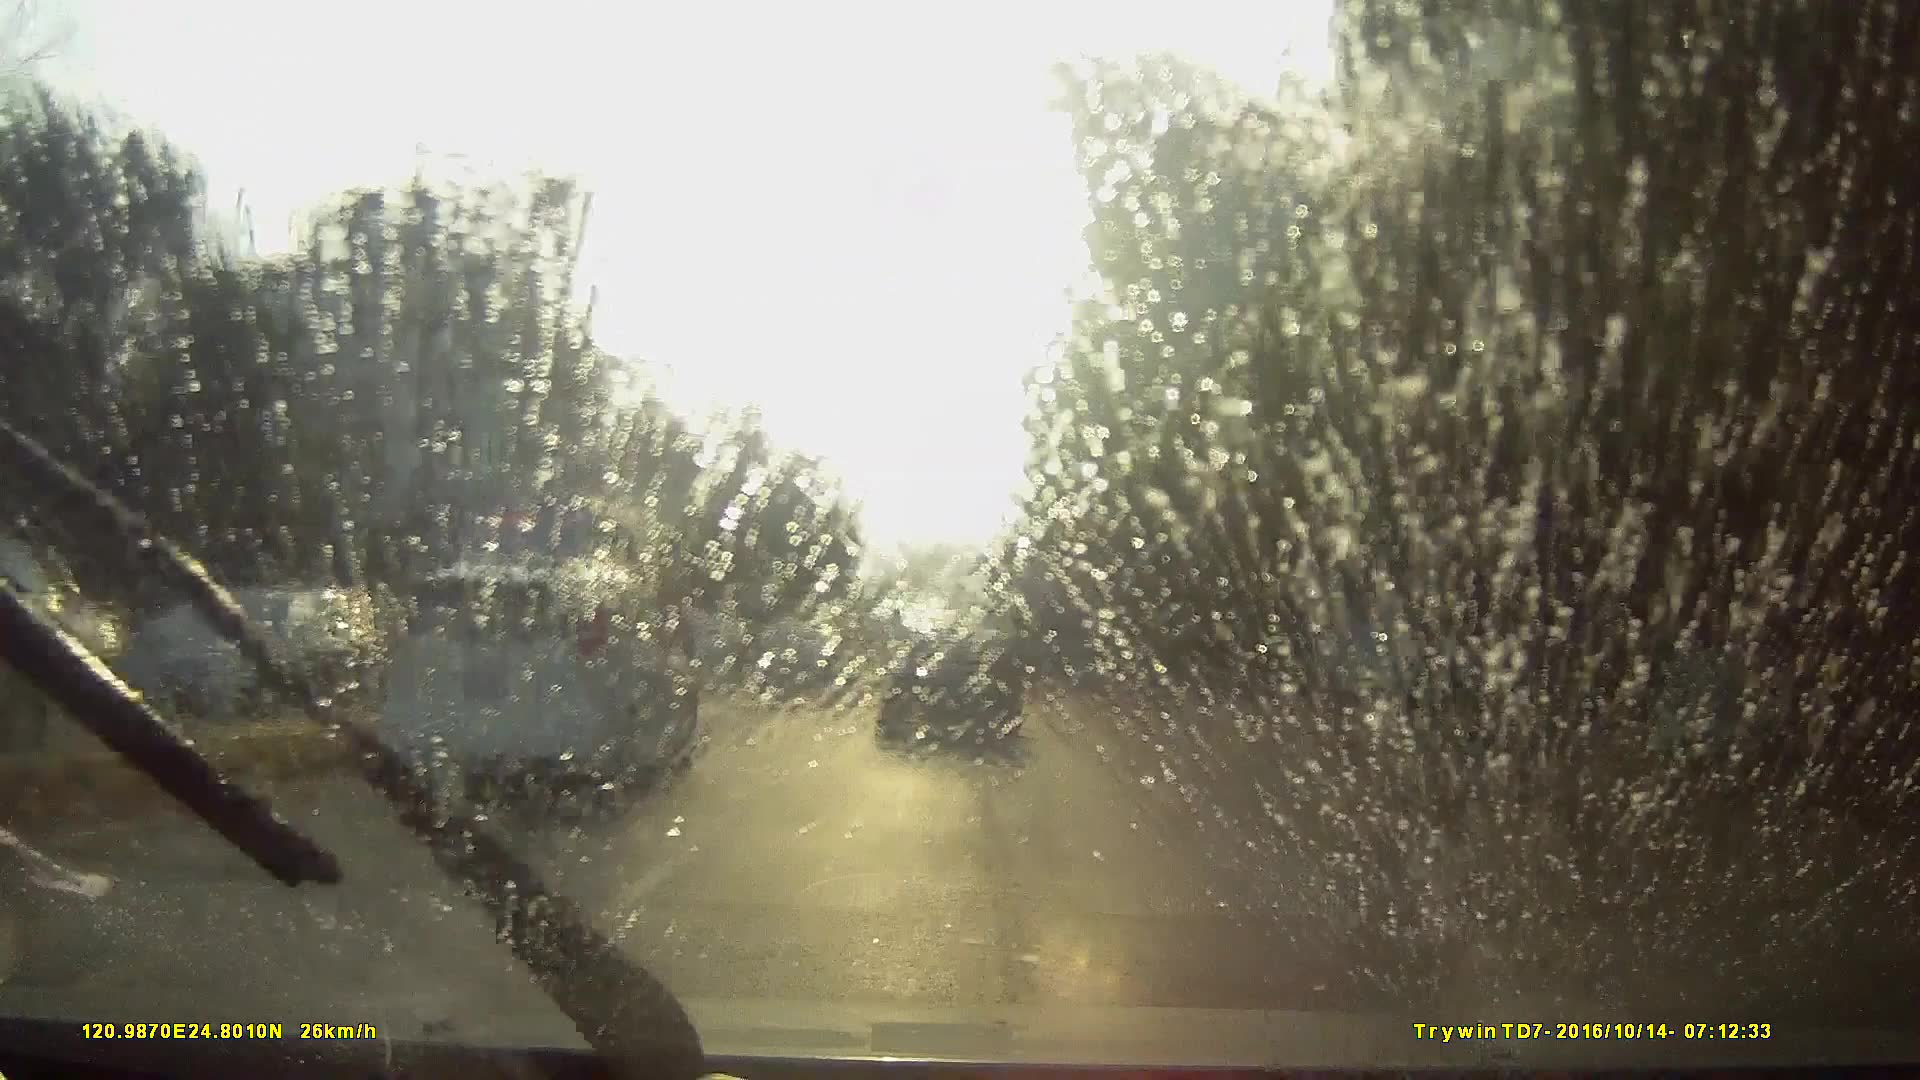vehicle: (251, 556, 684, 868), (389, 551, 700, 793), (411, 479, 713, 690), (876, 601, 1022, 753), (1000, 559, 1104, 684), (738, 615, 848, 702), (866, 638, 915, 687)
